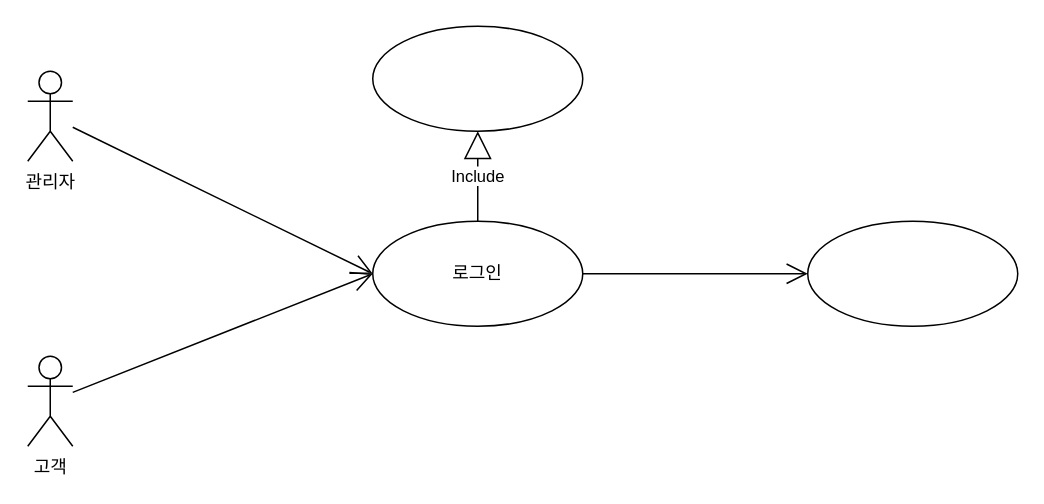
Image size: 1044x504. Some labels were removed from this diagram. The shapes that lost their labels are listed below. From the top down, each one's centre as x and y in pixels, then its label:
point (477, 78): 세션검사
point (912, 273): 서비스 진입
